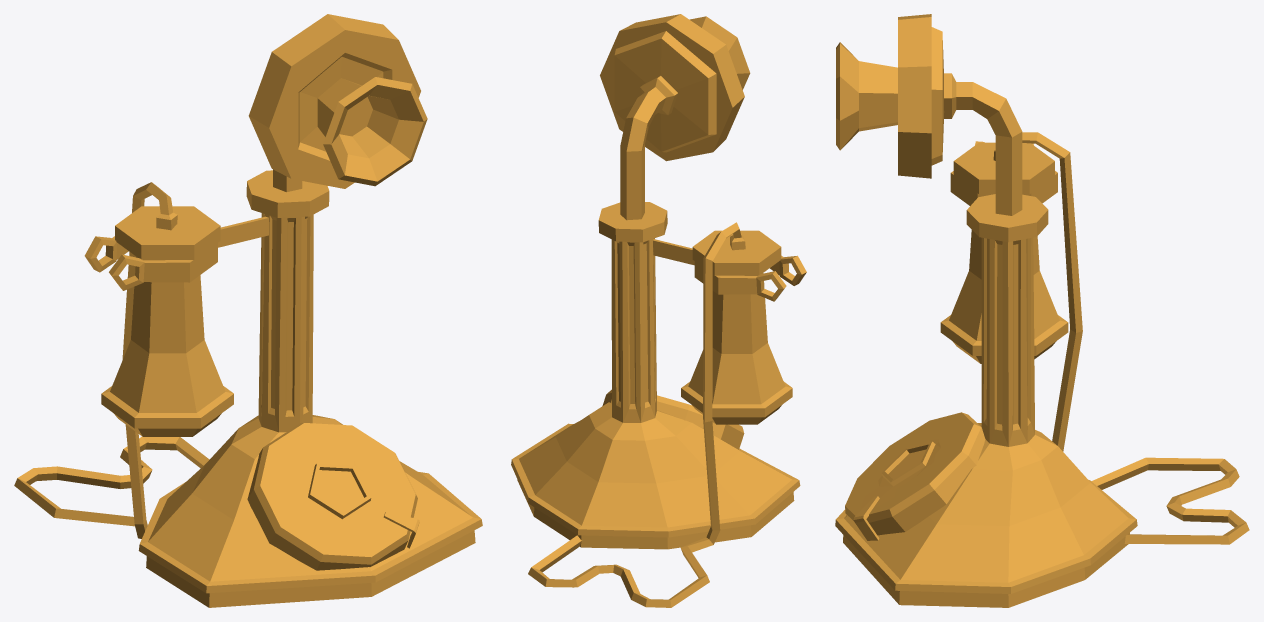
File: SM_Telephone_Table_Slim_Victorian.fbx
3 renders of one model, left to right at view 1: azimuth 30°, elevation 25°; view 2: azimuth 150°, elevation 25°; view 3: azimuth 270°, elevation 25°, orthographic. The views are drawn at different scales.
Visible parts, largest first — view 1: telephone-table-slim-victorian; view 2: telephone-table-slim-victorian; view 3: telephone-table-slim-victorian.
Boxes of the visible parts, left/top/right/bottom form: telephone-table-slim-victorian: left=14, top=14, right=482, bottom=607; telephone-table-slim-victorian: left=511, top=14, right=806, bottom=607; telephone-table-slim-victorian: left=835, top=14, right=1249, bottom=607.
Bounding box in the file's own units: 0.2689 × 0.421 × 0.3001.
